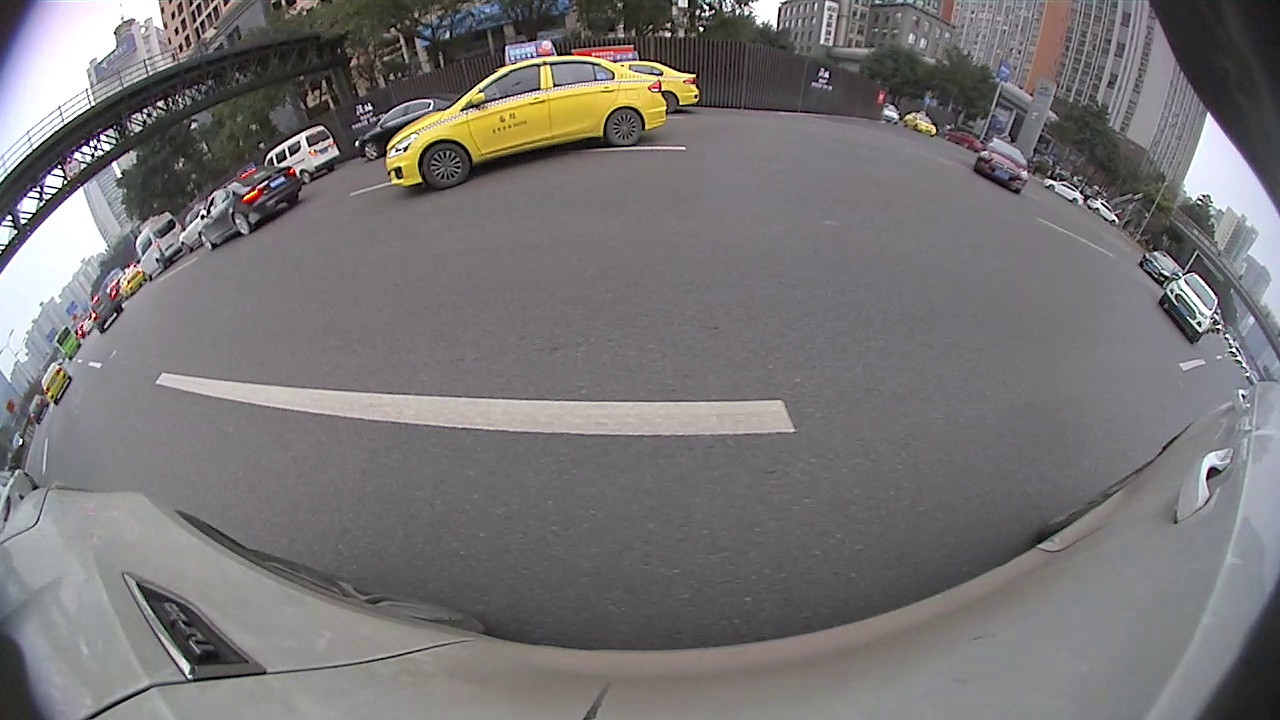car: (385, 38, 669, 191), (197, 159, 302, 253), (357, 97, 455, 162), (612, 59, 700, 116), (265, 124, 341, 184), (1158, 272, 1220, 344), (134, 209, 188, 282), (972, 137, 1031, 194), (1138, 249, 1185, 289), (42, 360, 73, 407), (1043, 178, 1085, 208), (1088, 198, 1120, 226)
front: (423, 144, 471, 185), (363, 142, 379, 160), (199, 234, 214, 250)
rear: (606, 110, 644, 144), (661, 92, 678, 114), (234, 213, 249, 234), (299, 170, 309, 184)
